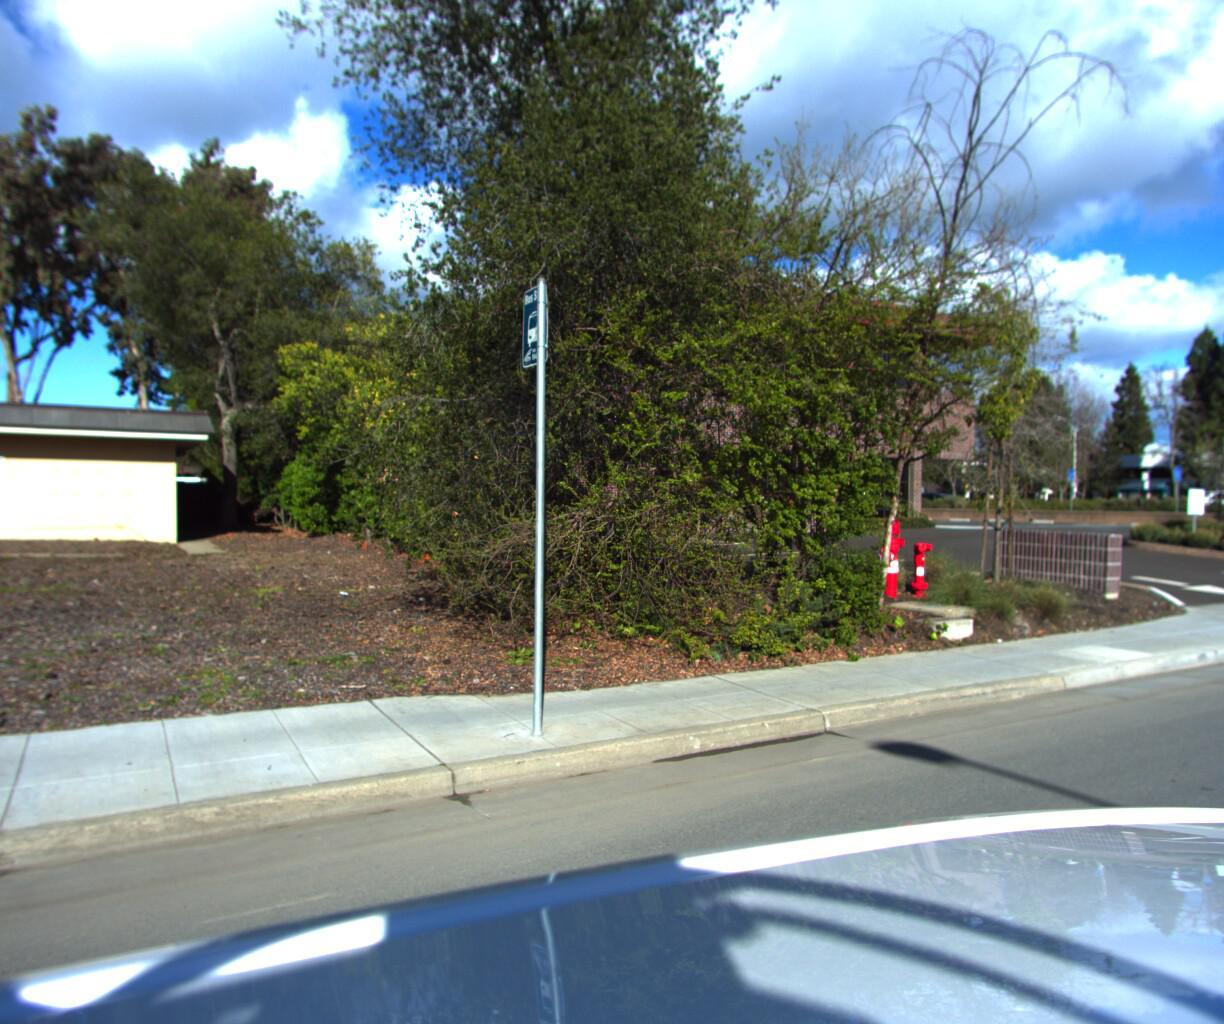car: (1187, 481, 1224, 517)
